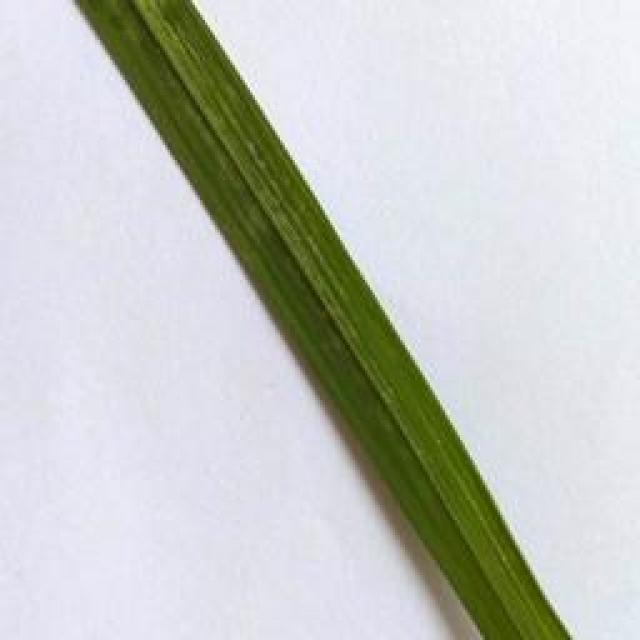Healthy-Plant: (75, 0, 572, 640)
